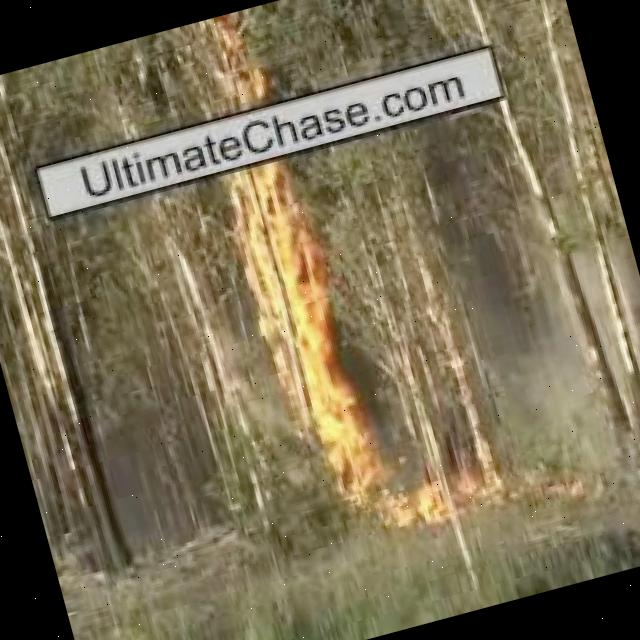fire: (228, 163, 356, 427), (307, 402, 460, 548), (205, 22, 268, 108)
